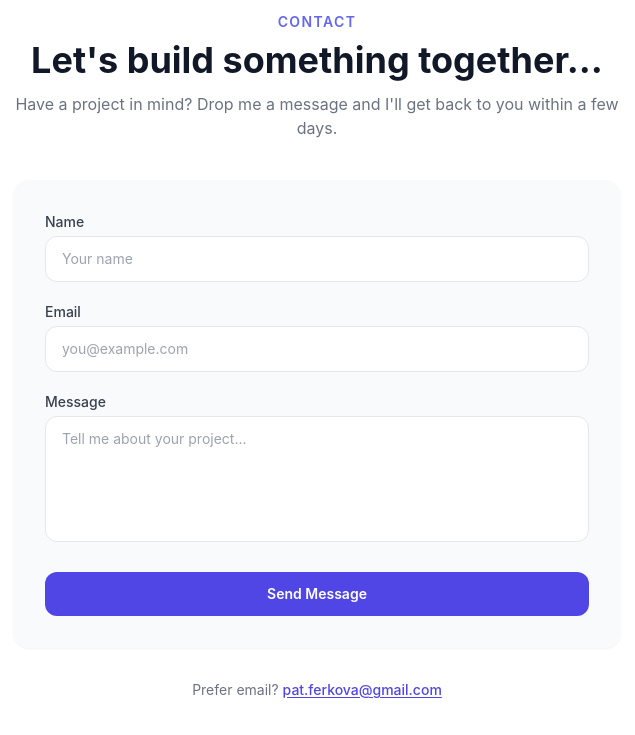
ContactSection › shows inline error for empty name without clearing other fields
The width and height of the screenshot is (635, 735).
In the field labelled "Email": (317, 349) top-left (45, 326), bottom-right (589, 372), type "test@example.com"
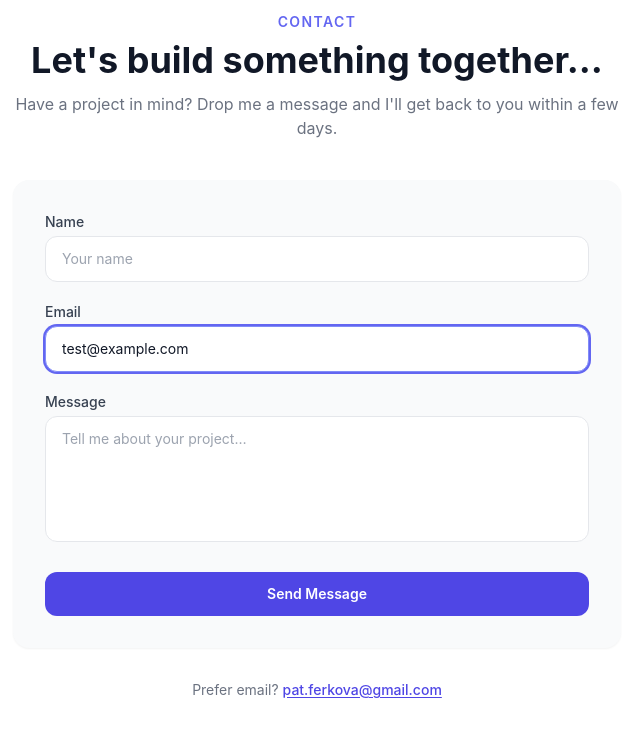
In the text box labelled "Message": (317, 479) top-left (45, 416), bottom-right (589, 542), type "Hello there"
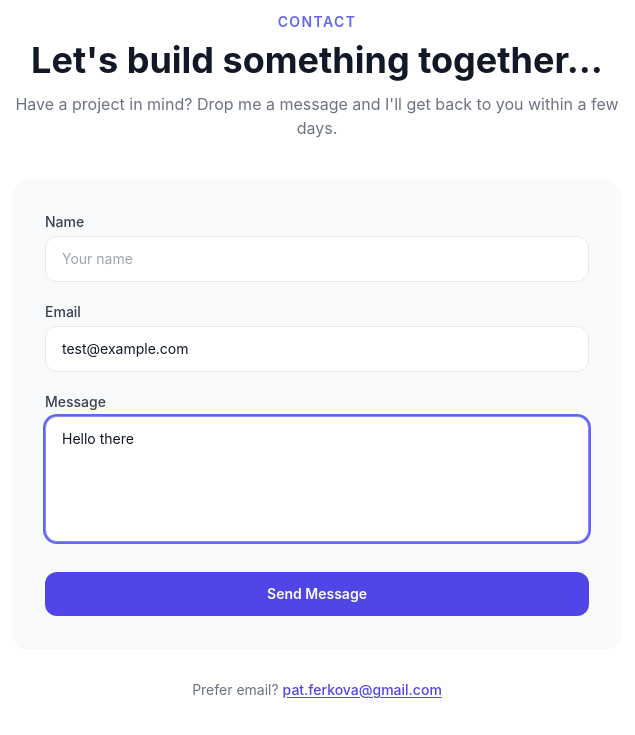
Click the button "Send Message": (317, 594) top-left (45, 572), bottom-right (589, 616)
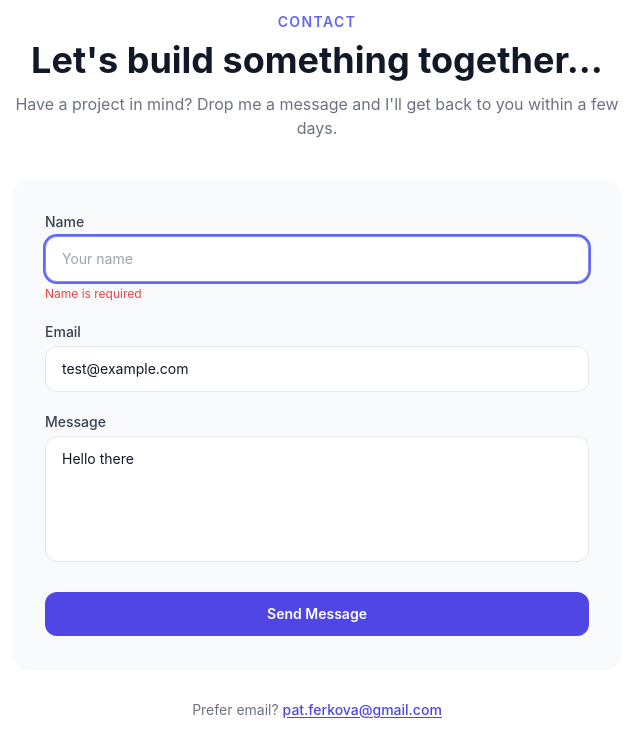
Check: the text "Name is required" is shown, box top-left (45, 286), bottom-right (142, 301)
